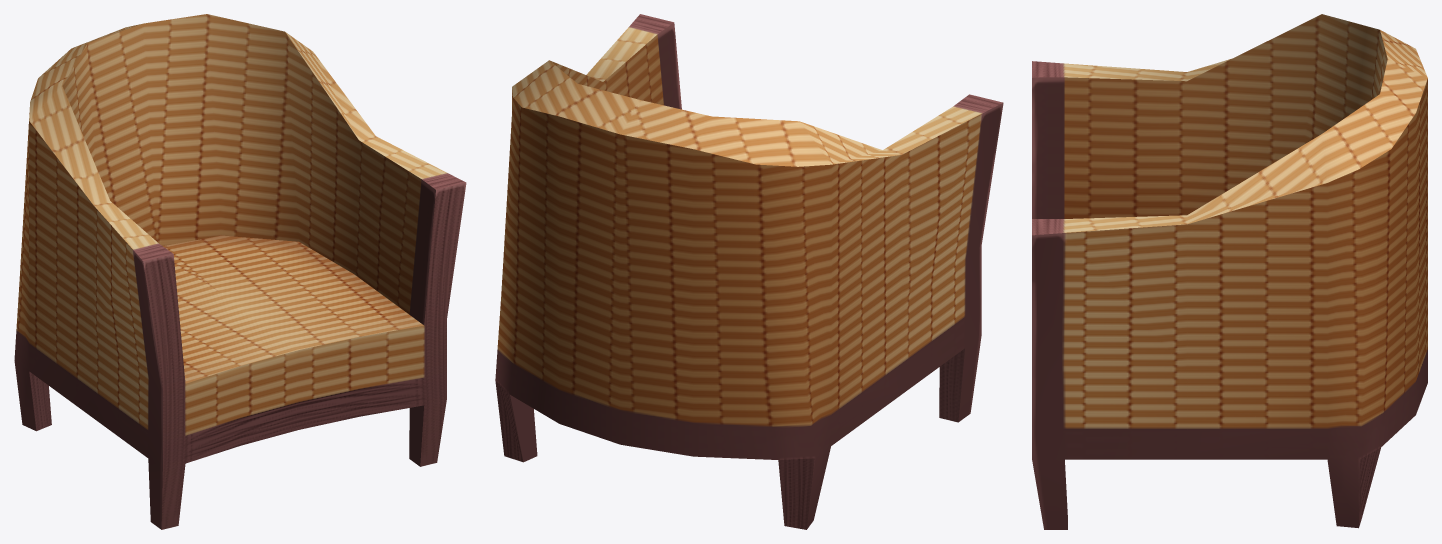
File: corridor_object_rattan_chair.FBX
3 renders of one model, left to right at view 1: azimuth 30°, elevation 25°; view 2: azimuth 150°, elevation 25°; view 3: azimuth 270°, elevation 25°, orthographic. The views are drawn at different scales.
Visible parts, largest first — view 1: Box002; view 2: Box002; view 3: Box002.
Part boxes in pixels (left/top/right/bottom): Box002: left=14, top=14, right=466, bottom=529; Box002: left=495, top=14, right=1003, bottom=529; Box002: left=1032, top=14, right=1427, bottom=529.
Size of the model in its own units: 338 by 359 by 324.
Materials: 1 (1 with a texture image).
